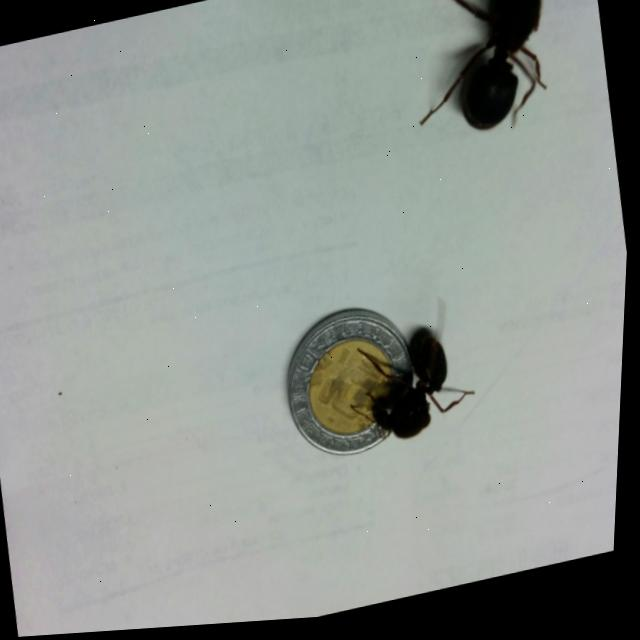Alive-Female-Dealate: (393, 0, 575, 157), (342, 323, 487, 457)
